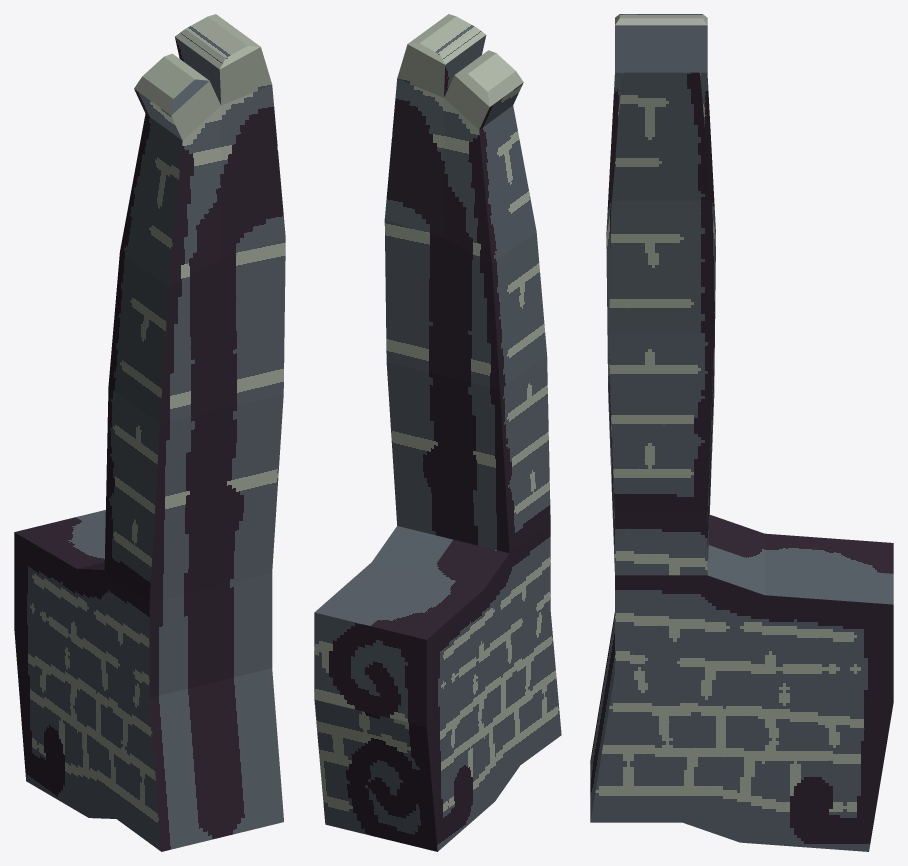
The model's file is throne.glb.
3 views of the same model, side by side, from view 1: azimuth 30°, elevation 25°; view 2: azimuth 150°, elevation 25°; view 3: azimuth 270°, elevation 25° (orthographic). The views are drawn at different scales.
Visible parts, largest first — view 1: Cube.202; view 2: Cube.202; view 3: Cube.202.
Boxes of the visible parts, x1,y1,x2,y2 form: Cube.202: (14,14,285,851); Cube.202: (314,14,561,851); Cube.202: (590,14,893,851).
Size of the model in its own units: 3.39 by 19.61 by 6.55.
Materials: 1 (1 with a texture image).
